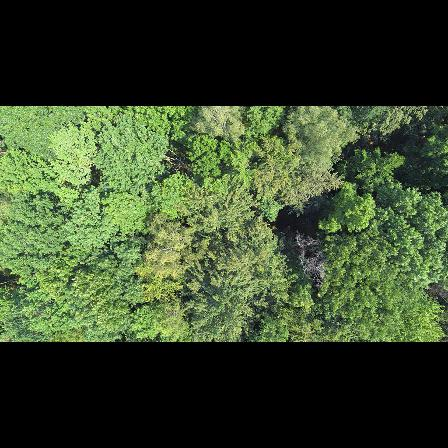Dead: (291, 234, 330, 287)
